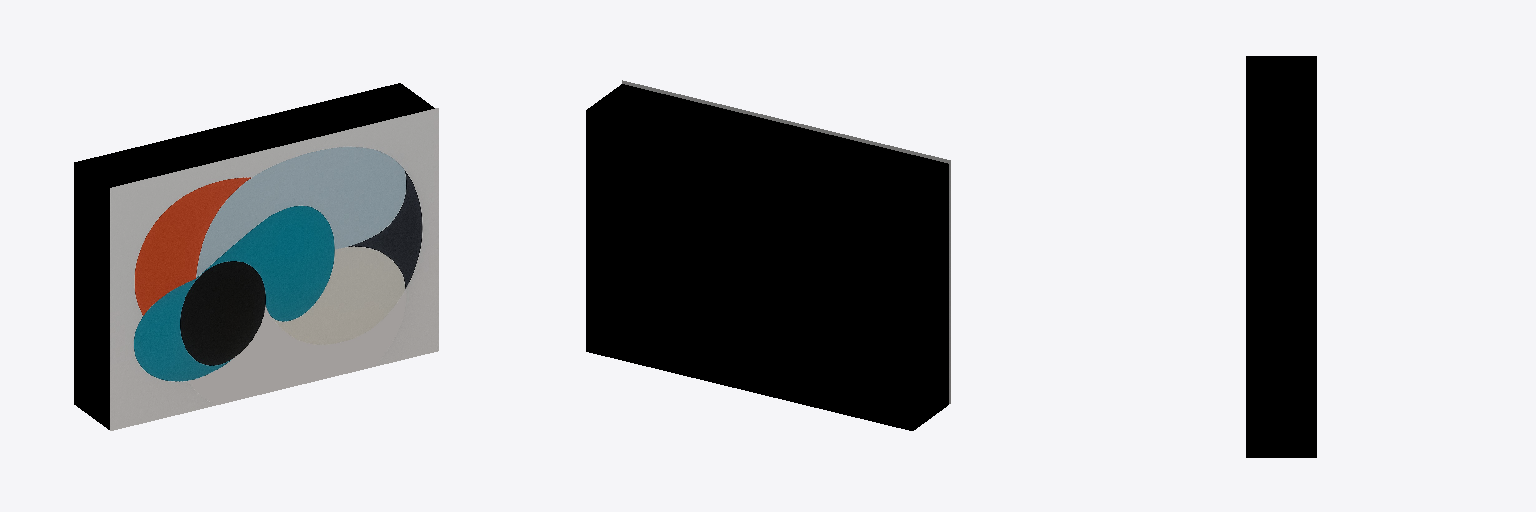
3 renders of one model, left to right at view 1: azimuth 30°, elevation 25°; view 2: azimuth 150°, elevation 25°; view 3: azimuth 270°, elevation 25°, orthographic.
Visible parts, largest first — view 1: mesh_id1, mesh_id31; view 2: mesh_id31, mesh_id1; view 3: mesh_id31.
Part boxes in pixels (x1,y1,x2,y2): mesh_id1: (110, 108, 438, 430); mesh_id31: (74, 83, 434, 429); mesh_id31: (586, 84, 948, 430); mesh_id1: (622, 80, 950, 403); mesh_id31: (1246, 56, 1316, 457).
Bounding box in the file's own units: 1.06 × 0.75 × 0.2079.
1 materials, 1 textured.